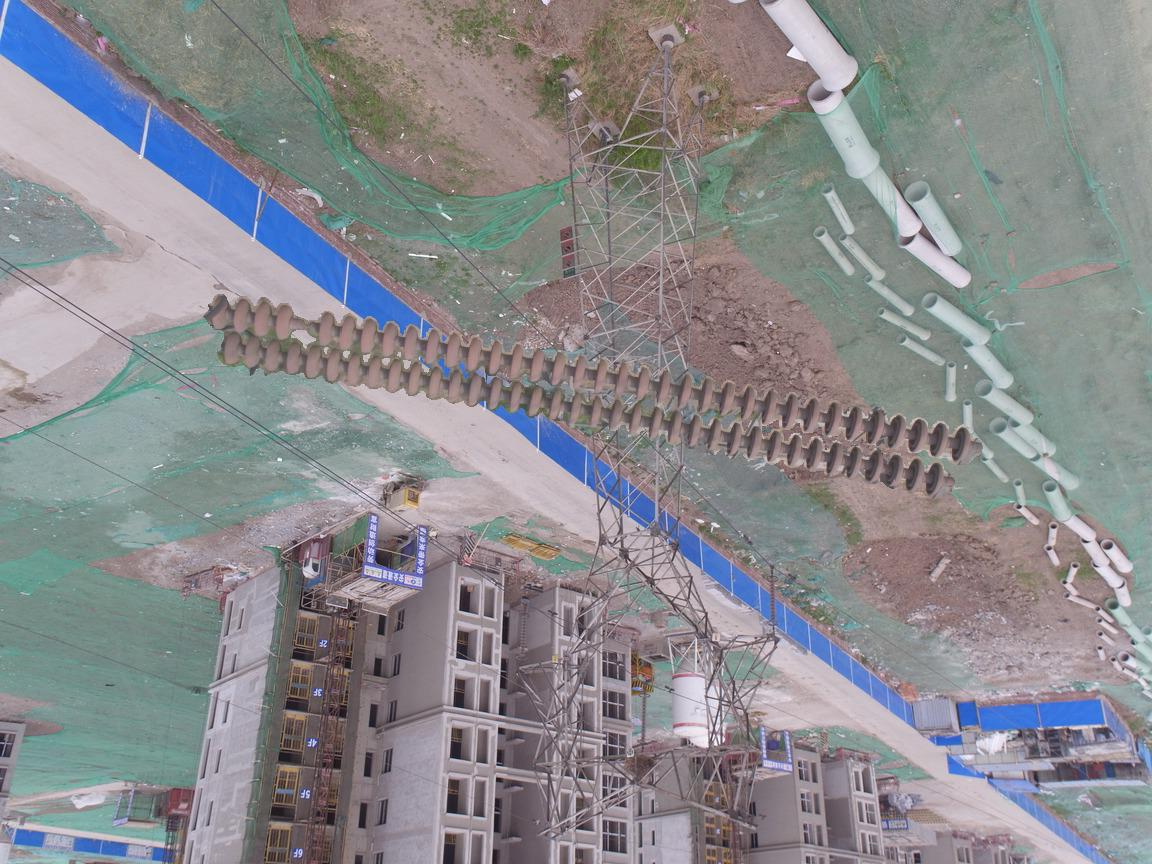insulator: (204, 292, 978, 500)
insulator_stringdrop: (269, 300, 338, 349)
